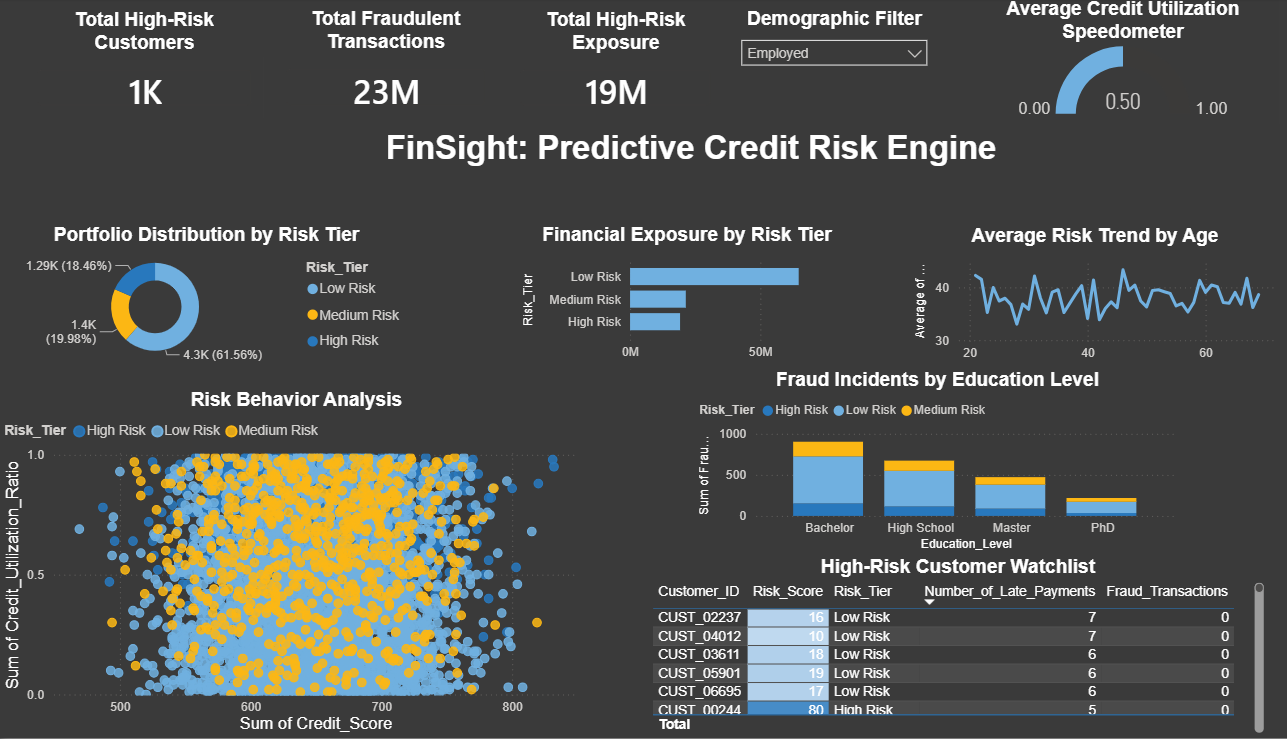

What the dashboard file says about the page in this screenshot:
{"tool":"powerbi","page":{"name":"Page 1","canvas":[1280,720],"ordinal":0},"visuals":[{"type":"donutChart","title":"Portfolio Distribution by Risk Tier","fields":{"Category":["FinSight_Scored_Portfolio.Risk_Tier"],"Y":["CountNonNull(FinSight_Scored_Portfolio.Customer_ID)"]},"box":[0,219.8,403.6,140.1],"z":0},{"type":"clusteredBarChart","title":"Financial Exposure by Risk Tier","fields":{"Category":["FinSight_Scored_Portfolio.Risk_Tier"],"Y":["Sum(FinSight_Scored_Portfolio.Total_Spend_Last_Year)"]},"box":[504.8,219.8,328.8,140.1],"z":1000},{"type":"cardVisual","title":"Total High-Risk Customers","fields":{"Data":["Sum(FinSight_Scored_Portfolio.Total High-Risk Customers)"]},"box":[20.4,10.7,242.2,111.9],"z":2000},{"type":"scatterChart","title":"Risk Behavior Analysis","fields":{"X":["Sum(FinSight_Scored_Portfolio.Credit_Score)"],"Y":["Sum(FinSight_Scored_Portfolio.Credit_Utilization_Ratio)"],"Category":["FinSight_Scored_Portfolio.Customer_ID"],"Series":["FinSight_Scored_Portfolio.Risk_Tier"]},"box":[0,380.3,578.7,339.5],"z":3000},{"type":"slicer","title":"Demographic Filter","fields":{"Values":["FinSight_Scored_Portfolio.Employment_Status"]},"box":[712,9.7,201.3,112.8],"z":4000},{"type":"tableEx","title":"High-Risk Customer Watchlist","fields":{"Values":["FinSight_Scored_Portfolio.Customer_ID","FinSight_Scored_Portfolio.Risk_Score","FinSight_Scored_Portfolio.Risk_Tier","FinSight_Scored_Portfolio.Number_of_Late_Payments","FinSight_Scored_Portfolio.Fraud_Transactions"]},"box":[630.3,542.7,605,177],"z":5000},{"type":"gauge","title":"Average Credit Utilization Speedometer","fields":{"Y":["Avg(FinSight_Scored_Portfolio.Credit_Utilization_Ratio)"]},"box":[940.5,0,305.4,122.6],"z":6000},{"type":"lineChart","title":"Average Risk Trend by Age","fields":{"Category":["FinSight_Scored_Portfolio.Age"],"Y":["Avg(FinSight_Scored_Portfolio.Risk_Score)"]},"box":[886.1,220.8,359.9,140.1],"z":7000},{"type":"columnChart","title":"Fraud Incidents by Education Level","fields":{"Category":["FinSight_Scored_Portfolio.Education_Level"],"Y":["Sum(FinSight_Scored_Portfolio.Fraud_Transactions)"],"Series":["FinSight_Scored_Portfolio.Risk_Tier"]},"box":[676,360.9,473.7,181.9],"z":8000},{"type":"cardVisual","title":"Total High-Risk Exposure","fields":{"Data":["FinSight_Scored_Portfolio.High Risk Exposure"]},"box":[490.2,10.7,219.8,111.9],"z":9000},{"type":"cardVisual","title":"Total Fraudulent Transactions","fields":{"Data":["Sum(FinSight_Scored_Portfolio.Total Fraud Incidents)"]},"box":[262.6,9.7,227.6,112.8],"z":10000},{"type":"textbox","box":[100.2,122.6,1145.8,80.7],"z":10001}]}

Visuals, with their boxes in screenshot pixels (x1, y1, x2, y2), scaled from the page's 1280x720 canvas onto the 1287x739 screenshot:
"Portfolio Distribution by Risk Tier" donutChart: locate(0, 226, 406, 369)
"Financial Exposure by Risk Tier" clusteredBarChart: locate(508, 226, 838, 369)
"Total High-Risk Customers" cardVisual: locate(21, 11, 264, 126)
"Risk Behavior Analysis" scatterChart: locate(0, 390, 582, 738)
"Demographic Filter" slicer: locate(716, 10, 918, 126)
"High-Risk Customer Watchlist" tableEx: locate(634, 557, 1242, 738)
"Average Credit Utilization Speedometer" gauge: locate(946, 0, 1253, 126)
"Average Risk Trend by Age" lineChart: locate(891, 227, 1253, 370)
"Fraud Incidents by Education Level" columnChart: locate(680, 370, 1156, 557)
"Total High-Risk Exposure" cardVisual: locate(493, 11, 714, 126)
"Total Fraudulent Transactions" cardVisual: locate(264, 10, 493, 126)
textbox: locate(101, 126, 1253, 209)
